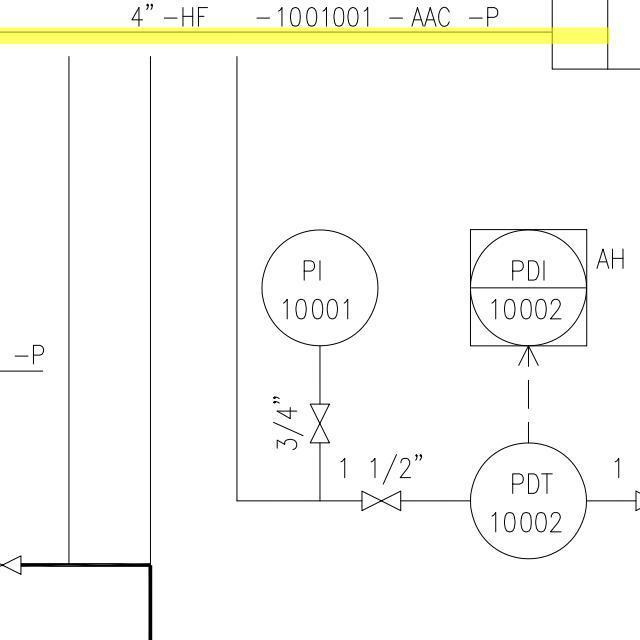GV: (306, 399, 334, 449), (357, 486, 406, 514)
